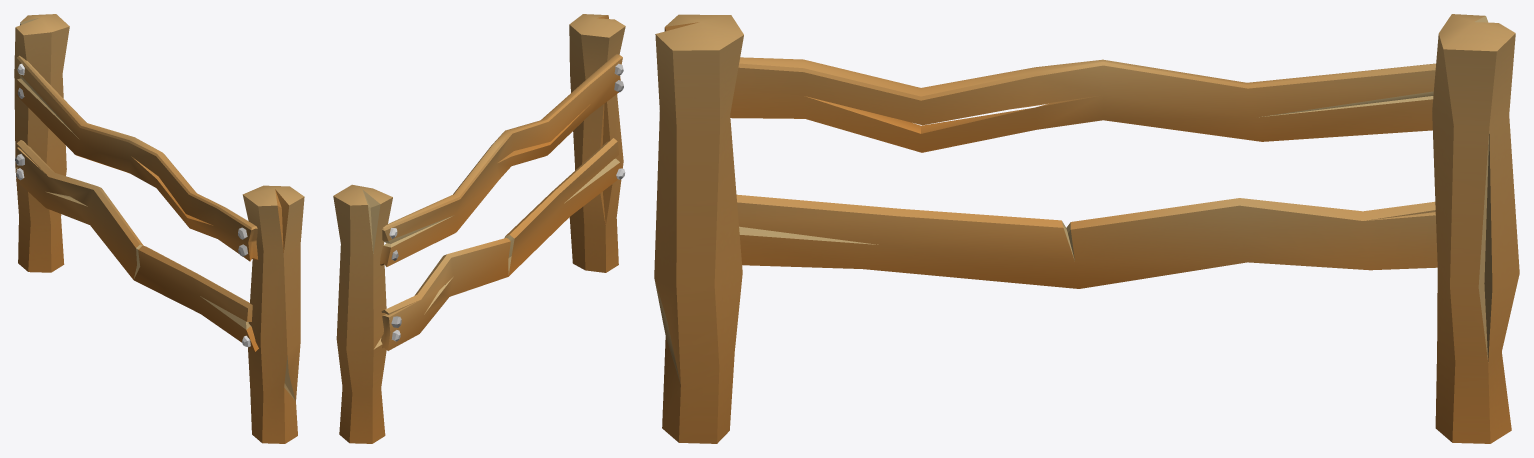
The model's file is valla9.fbx.
3 views of the same model, side by side, from view 1: azimuth 30°, elevation 25°; view 2: azimuth 150°, elevation 25°; view 3: azimuth 270°, elevation 25° (orthographic). The views are drawn at different scales.
Parts seen in each view (by area): view 1: VallaLarga; view 2: VallaLarga; view 3: VallaLarga.
Part boxes in pixels (box(x1,y1,x2,y2)): VallaLarga: box(14, 14, 304, 443); VallaLarga: box(333, 14, 625, 443); VallaLarga: box(654, 14, 1519, 443).
Bounding box in the file's own units: 140 × 611 × 1177.
